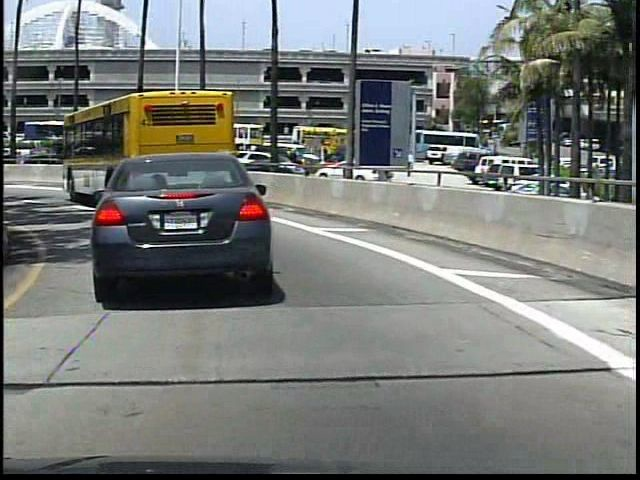person: (285, 145, 302, 180)
